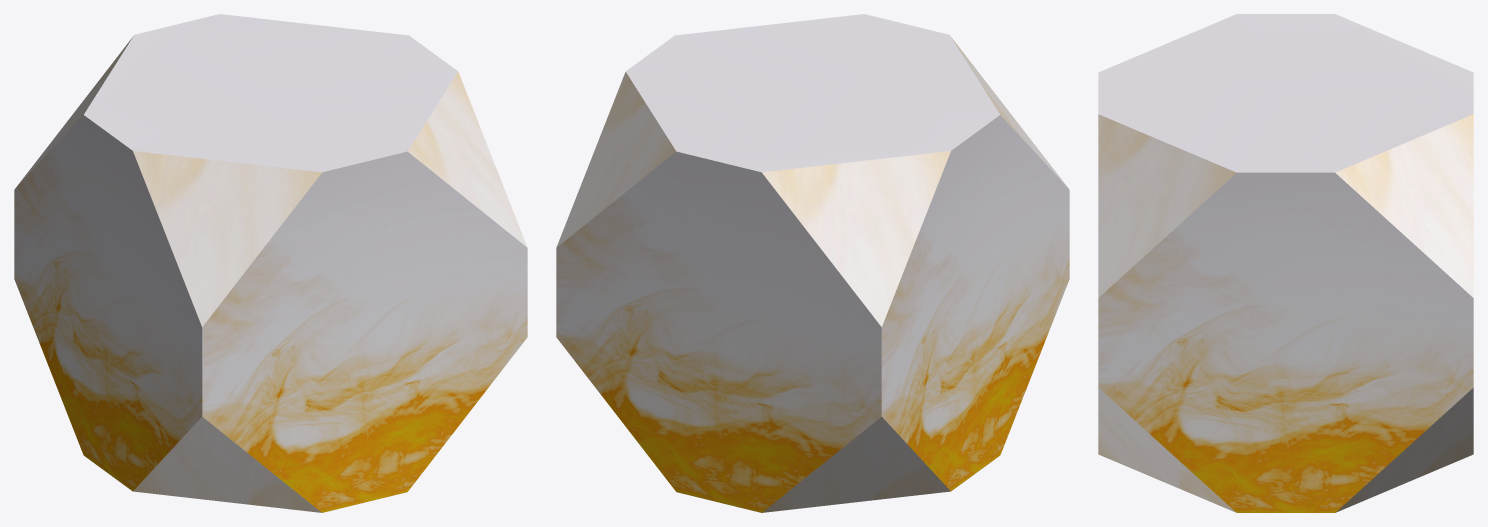
Rendered from Bath Salt Predungeon.obj.
3 views of the same model, side by side, from view 1: azimuth 30°, elevation 25°; view 2: azimuth 150°, elevation 25°; view 3: azimuth 270°, elevation 25° (orthographic).
Parts seen in each view (by area): view 1: Box002; view 2: Box002; view 3: Box002.
Boxes of the visible parts, box(x1,y1,x2,y2) form: Box002: box(14, 14, 527, 512); Box002: box(556, 14, 1069, 512); Box002: box(1098, 14, 1473, 512).
Bounding box in the file's own units: 50 × 50 × 50.
